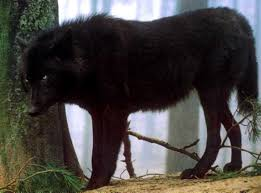Lobo: (11, 11, 256, 180)
